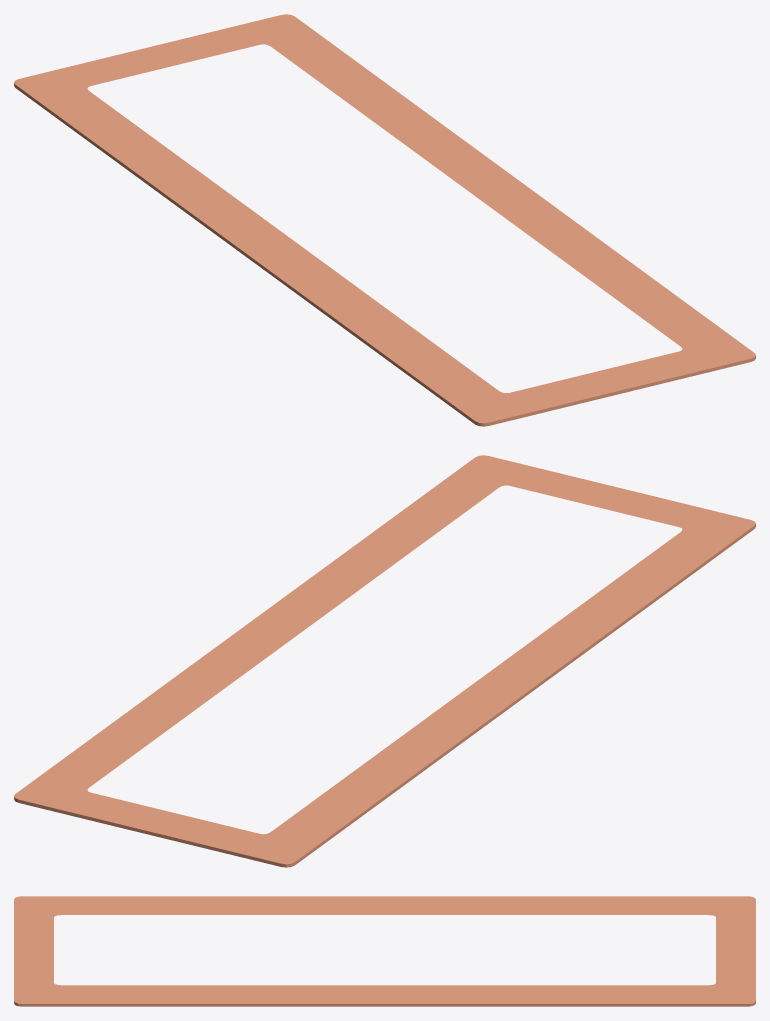
Rendered from Footpath_Ext.fbx.
3 renders of one model, top to bottom at view 1: azimuth 30°, elevation 25°; view 2: azimuth 150°, elevation 25°; view 3: azimuth 270°, elevation 25°, orthographic. The views are drawn at different scales.
Parts seen in each view (by area): view 1: FootPath_Ext; view 2: FootPath_Ext; view 3: FootPath_Ext.
Boxes of the visible parts, left/top/right/bottom form: FootPath_Ext: left=14, top=14, right=755, bottom=426; FootPath_Ext: left=14, top=455, right=755, bottom=867; FootPath_Ext: left=14, top=896, right=755, bottom=1006.
Bounding box in the file's own units: 8.2 × 0.0935 × 23.87.
